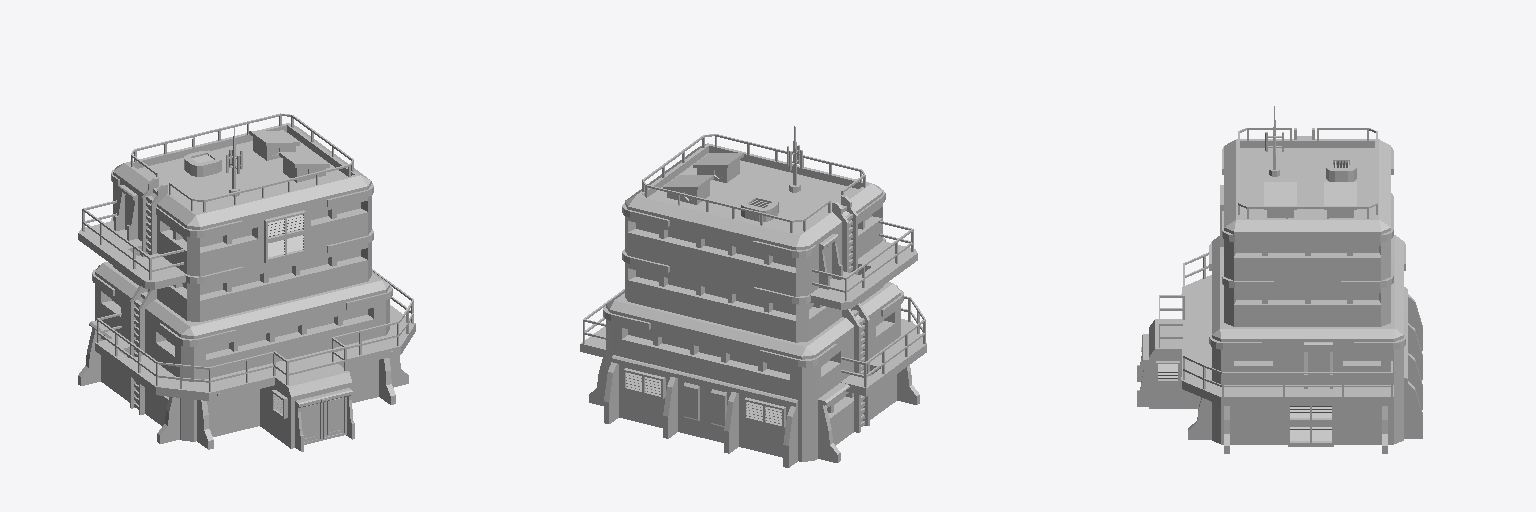
The model's file is SCIFIBuilding.obj.
The picture shows the model from 3 angles: view 1: azimuth 30°, elevation 25°; view 2: azimuth 150°, elevation 25°; view 3: azimuth 270°, elevation 25°; orthographic projection.
Parts seen in each view (by area): view 1: objMesh; view 2: objMesh; view 3: objMesh.
Boxes of the visible parts, x1=… form: objMesh: x1=78, y1=113, x2=415, y2=451; objMesh: x1=580, y1=126, x2=926, y2=467; objMesh: x1=1137, y1=106, x2=1422, y2=453.
Size of the model in its own units: 4.15 by 4.19 by 3.94.